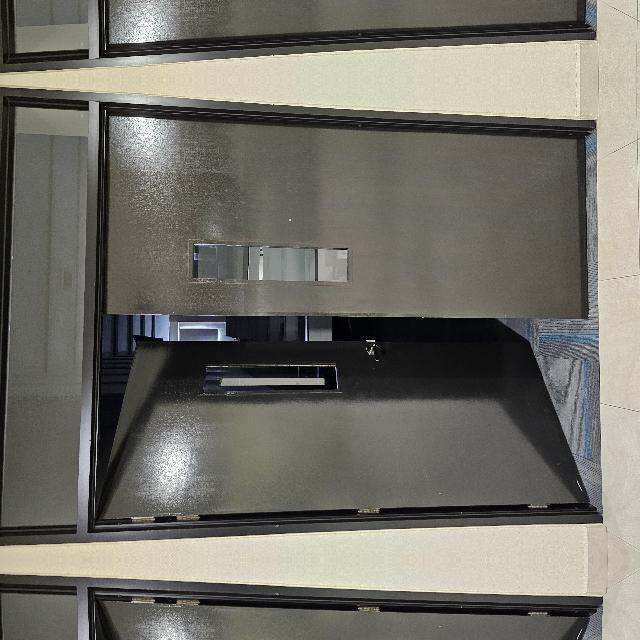door: (22, 165, 462, 640), (22, 433, 462, 640)
